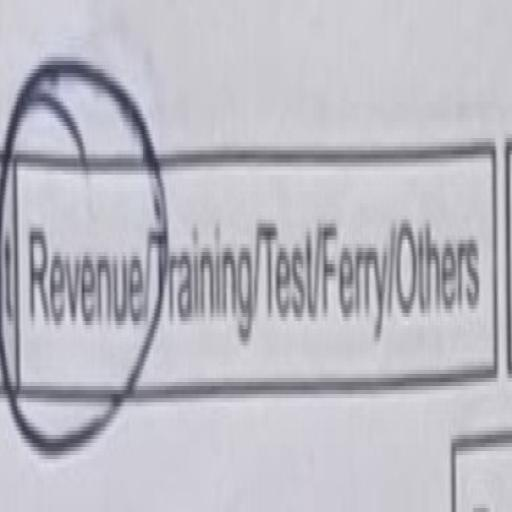check: (10, 51, 146, 479)
